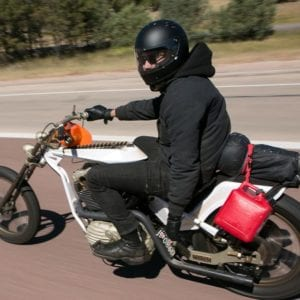helmet: (119, 13, 220, 156)
